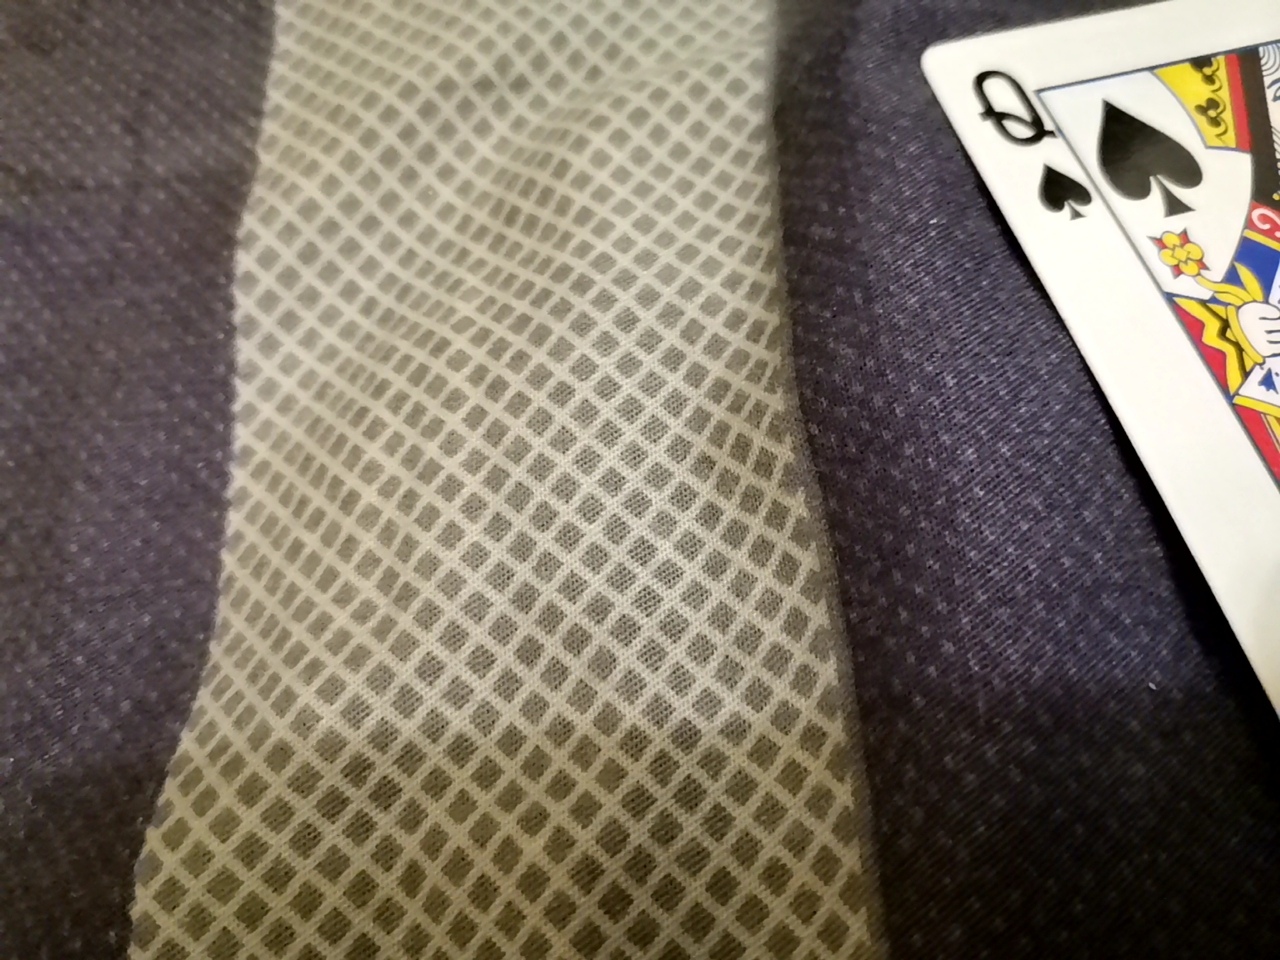ht q: (917, 0, 1276, 743)
